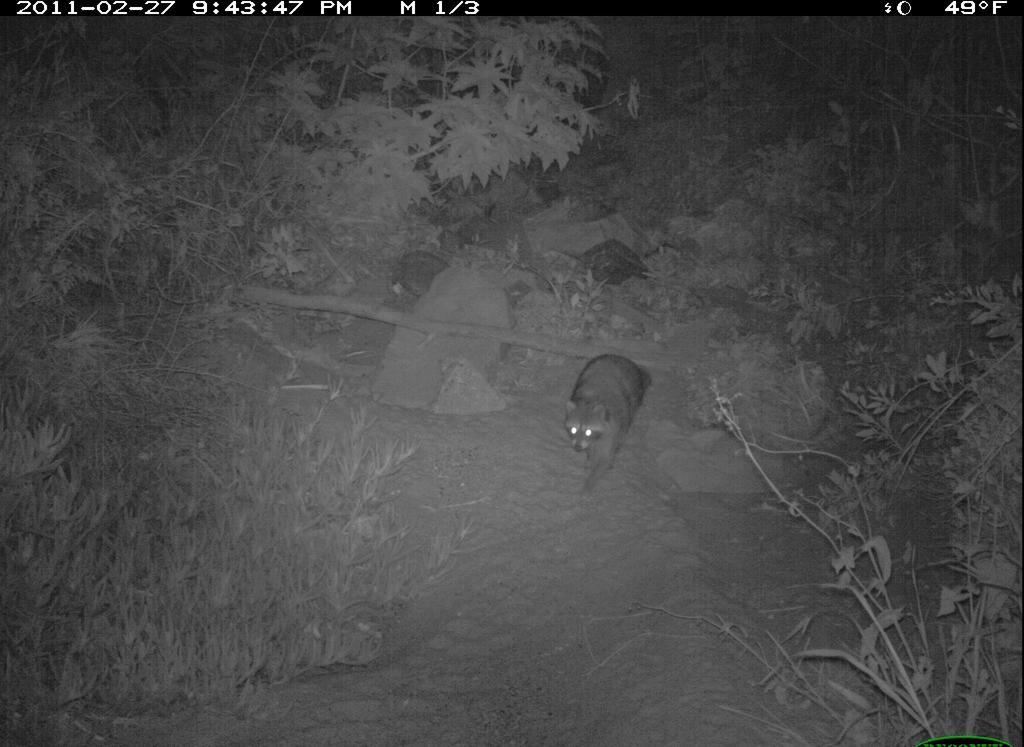raccoon: (559, 355, 658, 505)
